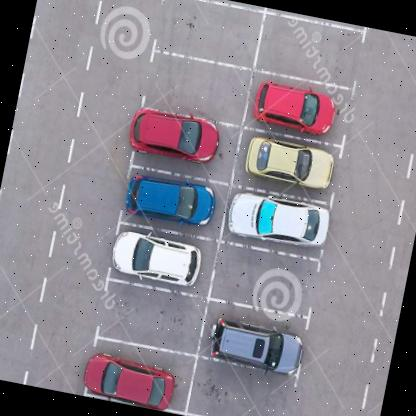Car: (122, 106, 237, 176), (79, 340, 188, 412), (222, 188, 336, 256), (106, 224, 213, 292), (237, 132, 340, 202), (205, 308, 311, 376), (119, 168, 221, 235), (248, 74, 346, 138)
Empty: (152, 0, 261, 68), (214, 247, 322, 314), (145, 58, 251, 126), (259, 16, 363, 84), (104, 283, 203, 348), (192, 359, 293, 416)
